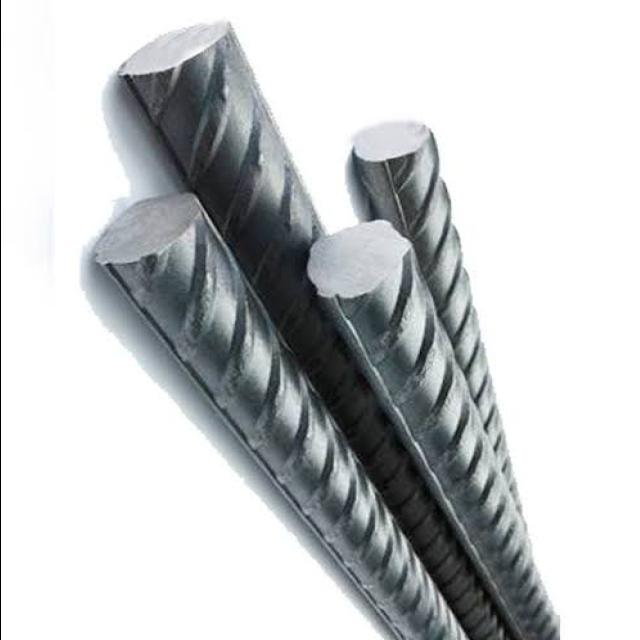Rebar: (90, 179, 208, 283), (301, 223, 419, 303), (101, 24, 245, 71), (351, 110, 445, 159)
